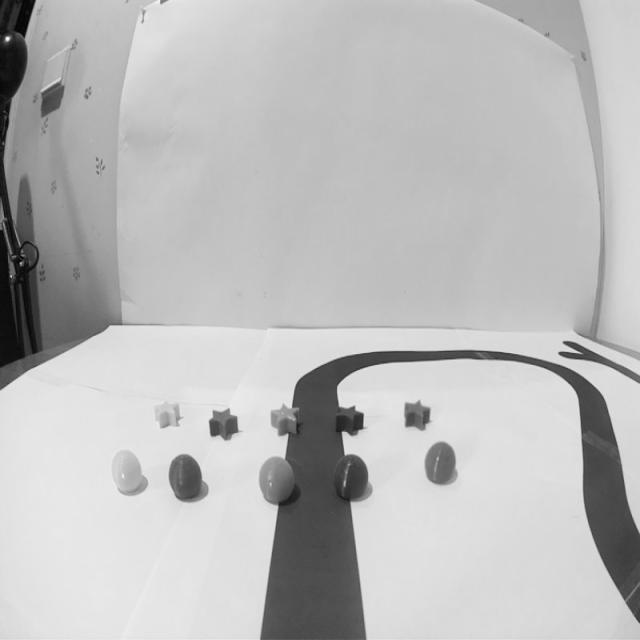ball: (254, 454, 300, 509), (332, 448, 372, 508), (166, 451, 206, 504), (422, 438, 460, 492), (108, 447, 146, 498)
lineStraight: (247, 470, 381, 640)
star: (265, 400, 305, 442), (398, 394, 435, 435), (149, 394, 185, 434), (330, 400, 366, 440), (206, 404, 241, 444)
